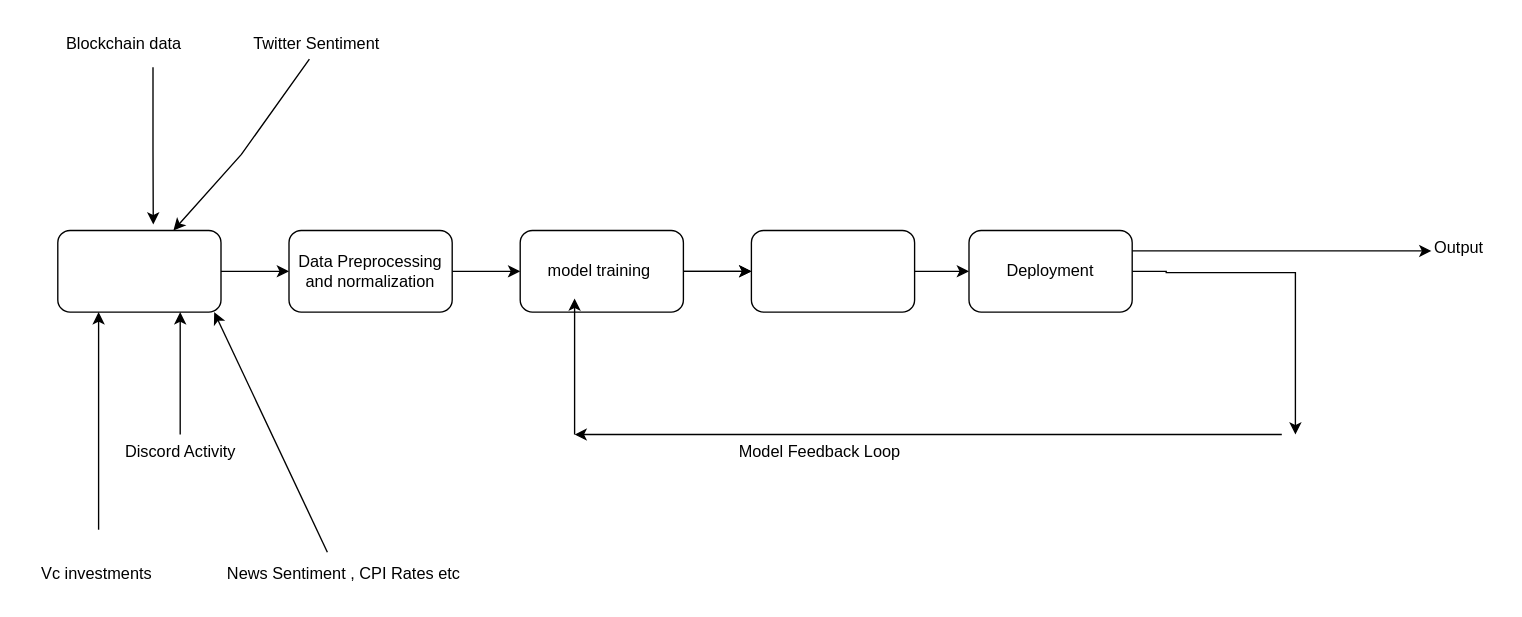
This 1522x617 diagram has some shape labels left out. Each missing label, with the centre of its shape:
Data ingestion: pixel 138 270
Model Analysis: pixel 832 270
